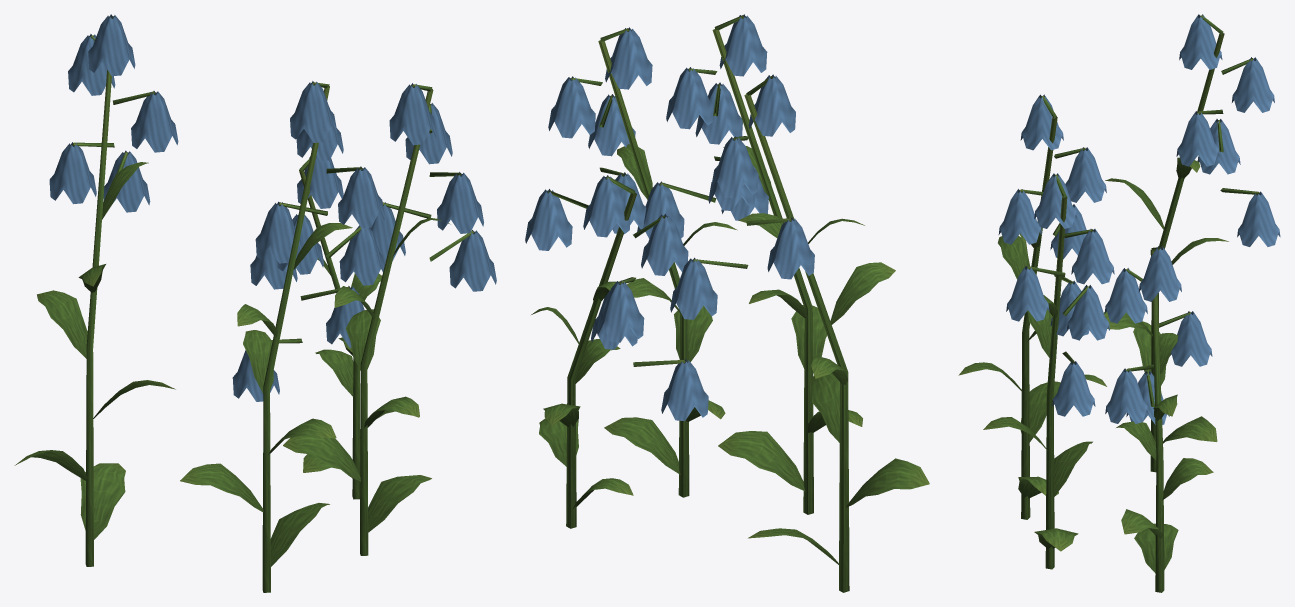
Rendered from Harebell_B.fbx.
3 renders of one model, left to right at view 1: azimuth 30°, elevation 25°; view 2: azimuth 150°, elevation 25°; view 3: azimuth 270°, elevation 25°, orthographic. The views are drawn at different scales.
Parts seen in each view (by area): view 1: Harebell_B_LOD0; view 2: Harebell_B_LOD0; view 3: Harebell_B_LOD0.
Part boxes in pixels (x1,y1,x2,y2): Harebell_B_LOD0: (14,14,496,592); Harebell_B_LOD0: (525,14,929,592); Harebell_B_LOD0: (958,14,1280,592).
Size of what is drawn, in the model's own units: 25.6 by 28.93 by 17.72.
1 material, 1 textured.
